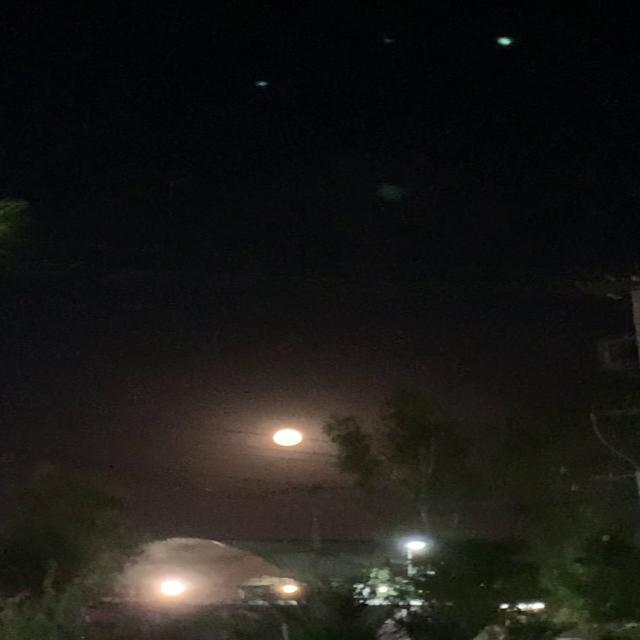moon: (262, 428, 315, 453)
